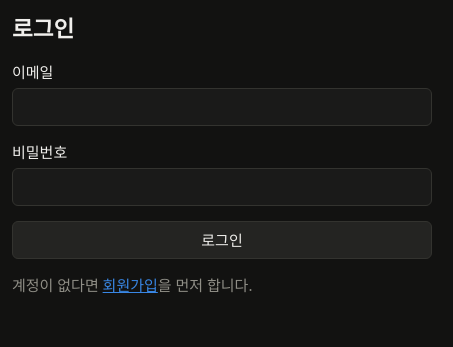
Test case: LoginPage › 429이면 Retry-After로 잠금 시간을 안내한다
In the field labelled "이메일": {"x": 222, "y": 107} [12, 88, 432, 126], type "reader@example.com"
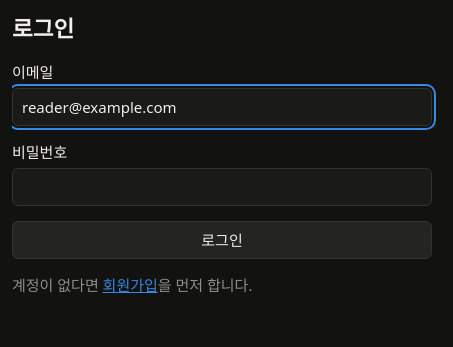
In the password field labelled "비밀번호": {"x": 222, "y": 187} [12, 168, 432, 206], type "wrong"
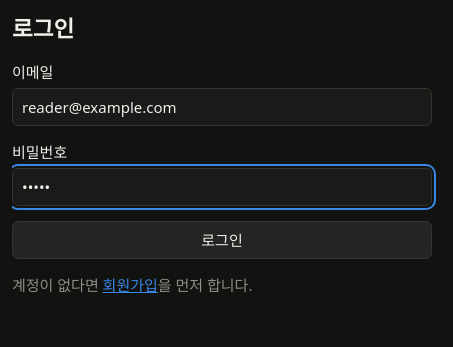
Click the button "로그인": {"x": 222, "y": 240} [12, 221, 432, 259]
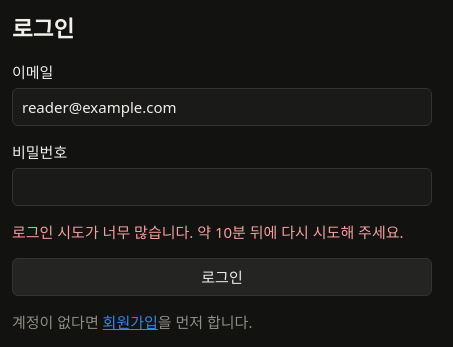
Expected: the message shows "약 10분 뒤에", [12, 222, 404, 242]
